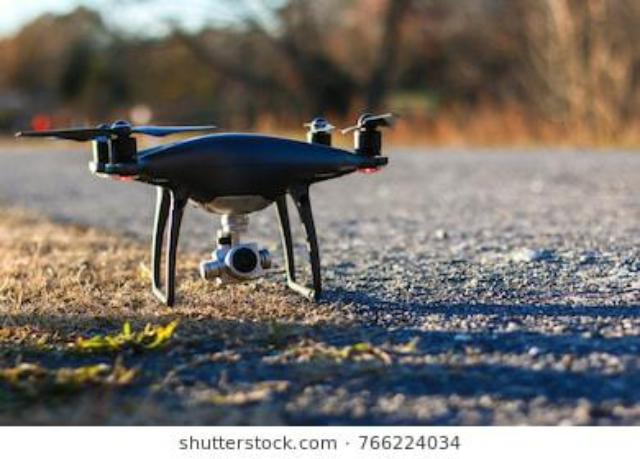drone: (0, 76, 430, 318)
